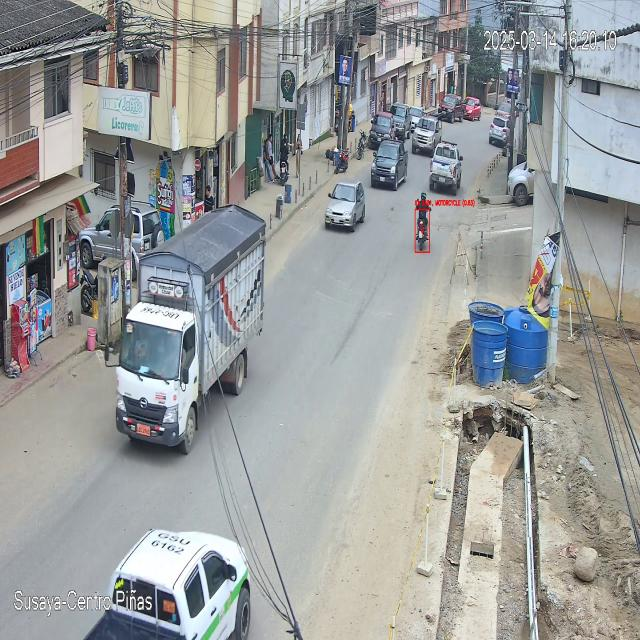CMT: (86, 530, 254, 640), (370, 138, 409, 192)
SED: (324, 178, 366, 233)
TRUCK: (114, 208, 268, 456)
